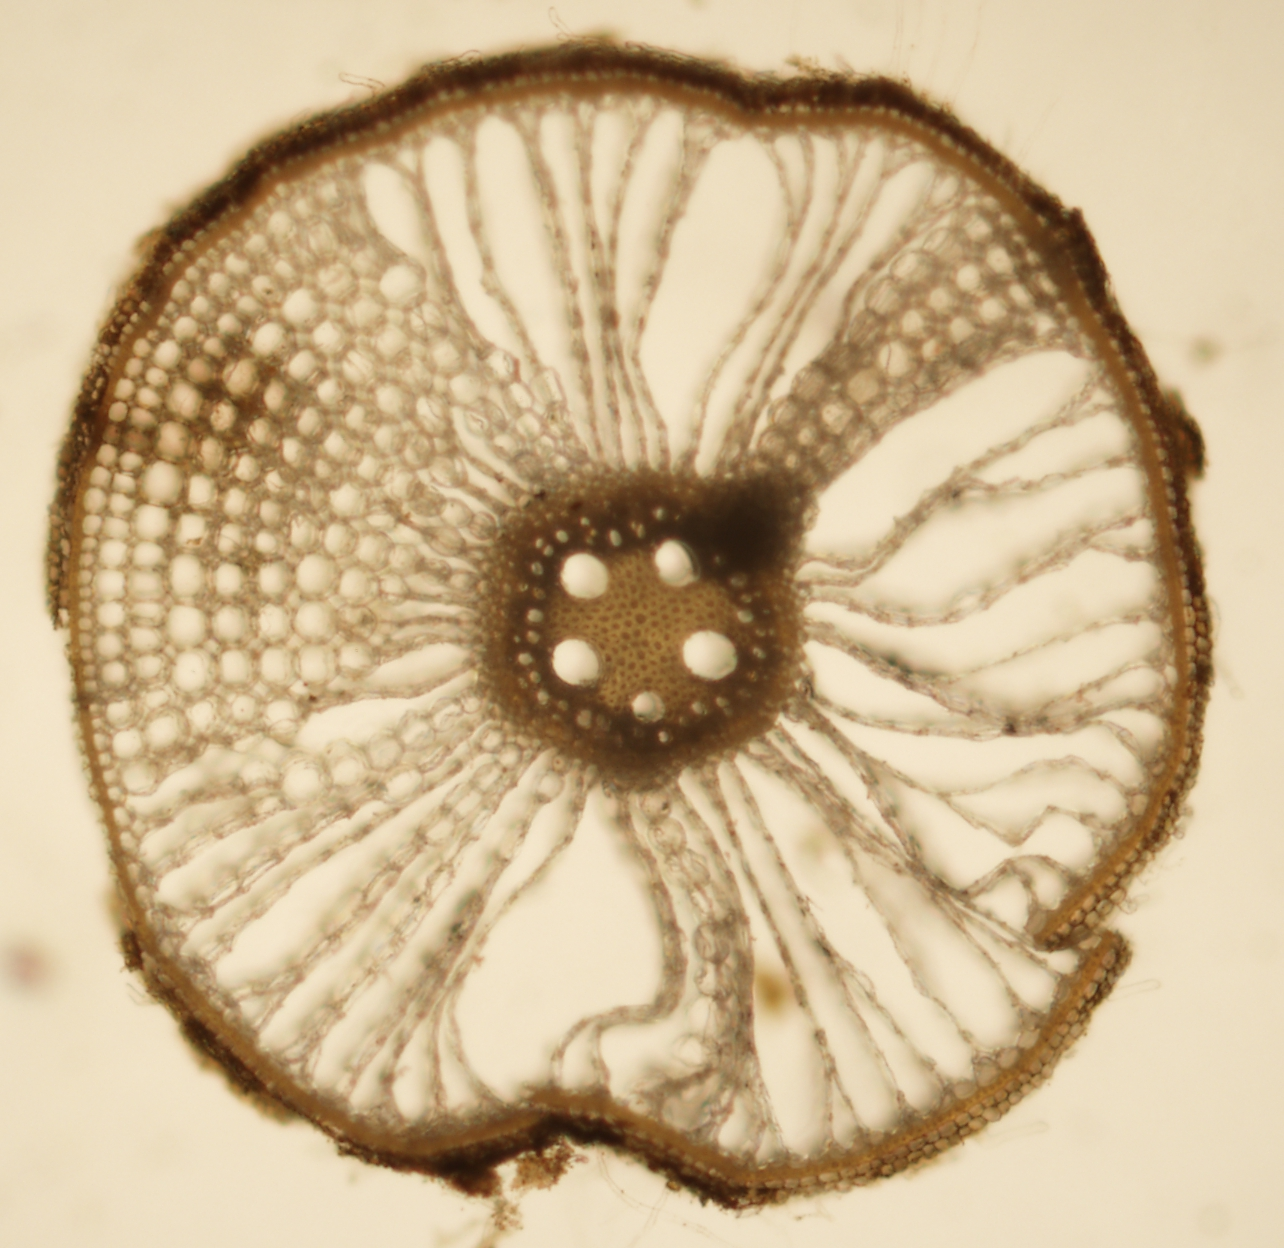lm: (683, 630, 737, 680), (653, 537, 699, 588), (559, 554, 609, 598), (553, 639, 600, 685), (632, 691, 664, 723)
